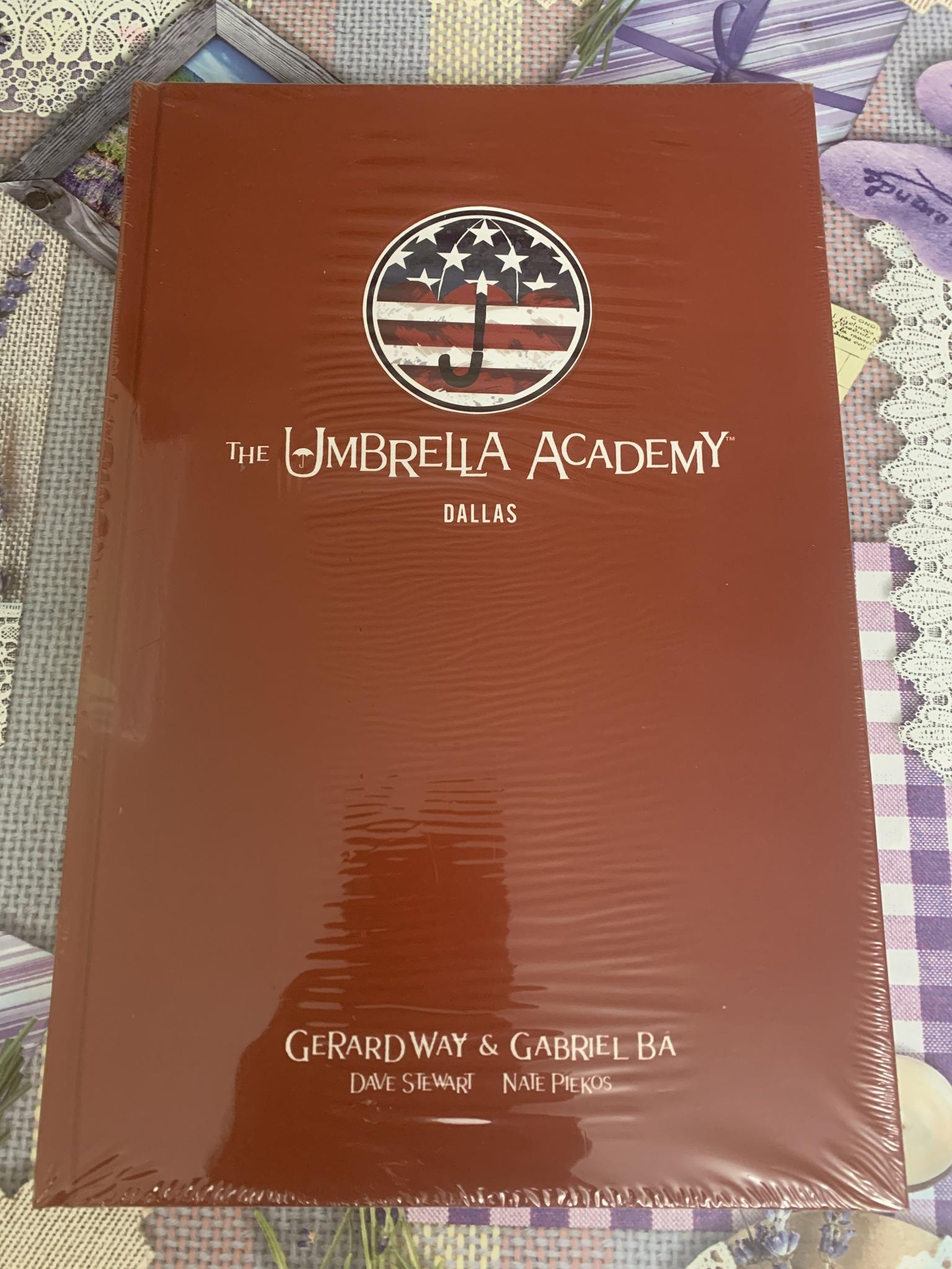comic: (36, 82, 908, 1208)
